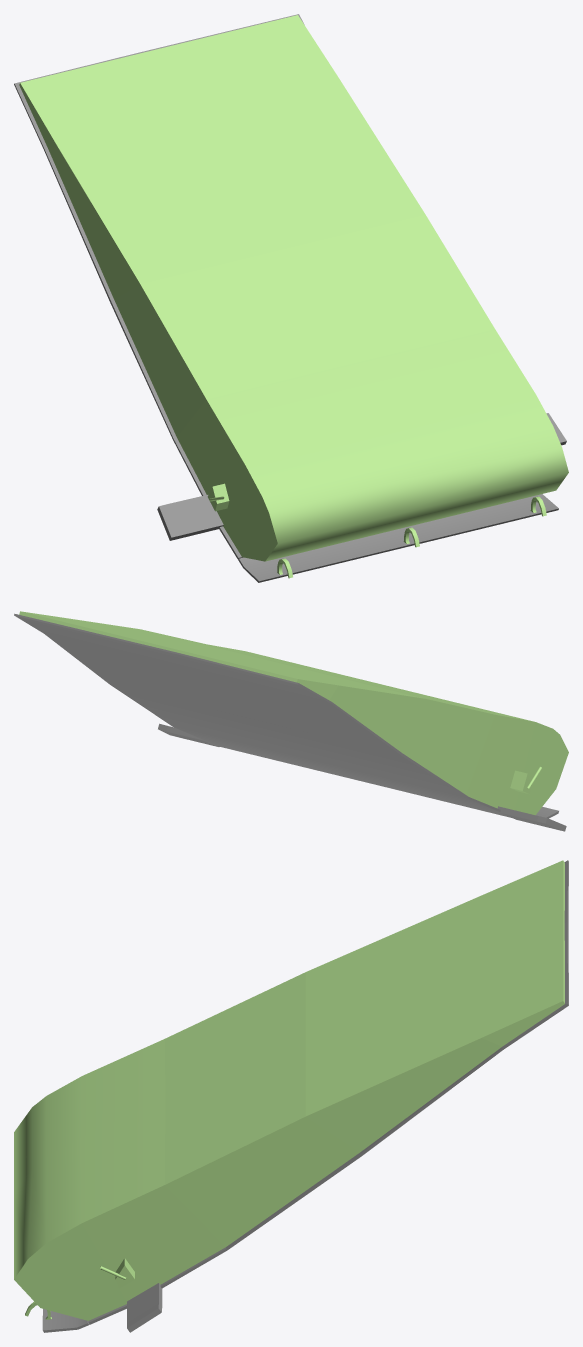
Rendered from AC313_feijimen_02.FBX.
3 views of the same model, one above another, from view 1: azimuth 30°, elevation 25°; view 2: azimuth 150°, elevation 25°; view 3: azimuth 270°, elevation 25° (orthographic). The views are drawn at different scales.
Visible parts, largest first — view 1: AC313_feijimen_02, AC313_feijimengaizi_02; view 2: AC313_feijimen_02; view 3: AC313_feijimen_02, AC313_feijimengaizi_02.
Part boxes in pixels (x1,y1,x2,y2): AC313_feijimen_02: (14,14,568,561); AC313_feijimengaizi_02: (238,494,558,582); AC313_feijimen_02: (14,611,568,831); AC313_feijimen_02: (14,860,568,1332); AC313_feijimengaizi_02: (25,1301,89,1332).
Bounding box in the file's own units: 2.34 × 1.78 × 2.74.
